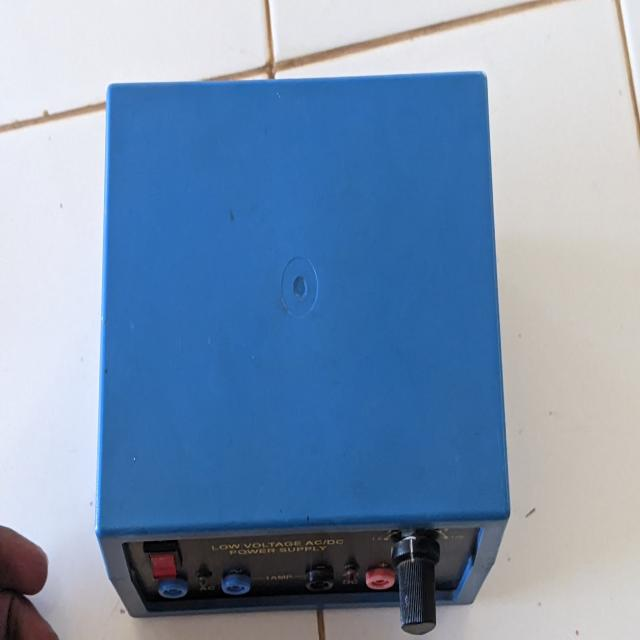Low Voltage AC-DC Power Supply 12 V: (89, 50, 515, 629)
